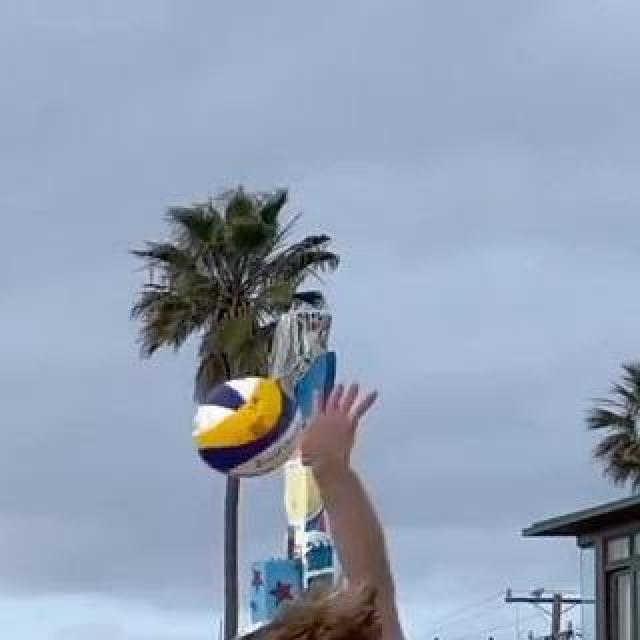volleyball: (195, 374, 303, 478)
